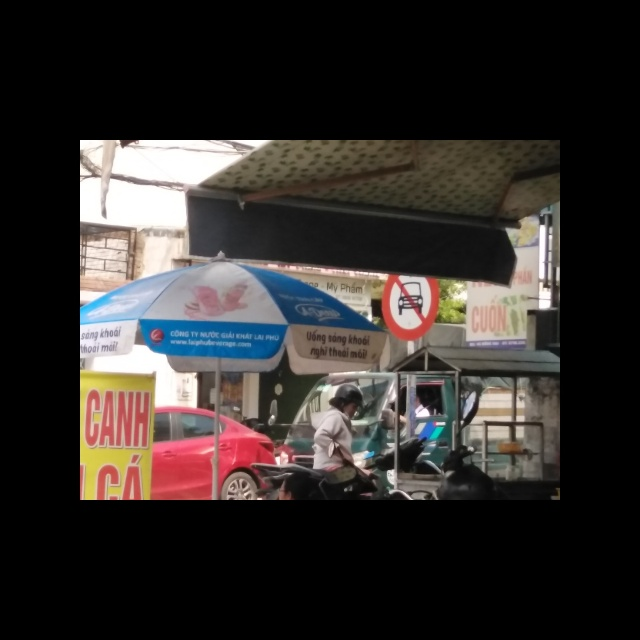Cấm xe ô tô: (378, 275, 441, 344)
